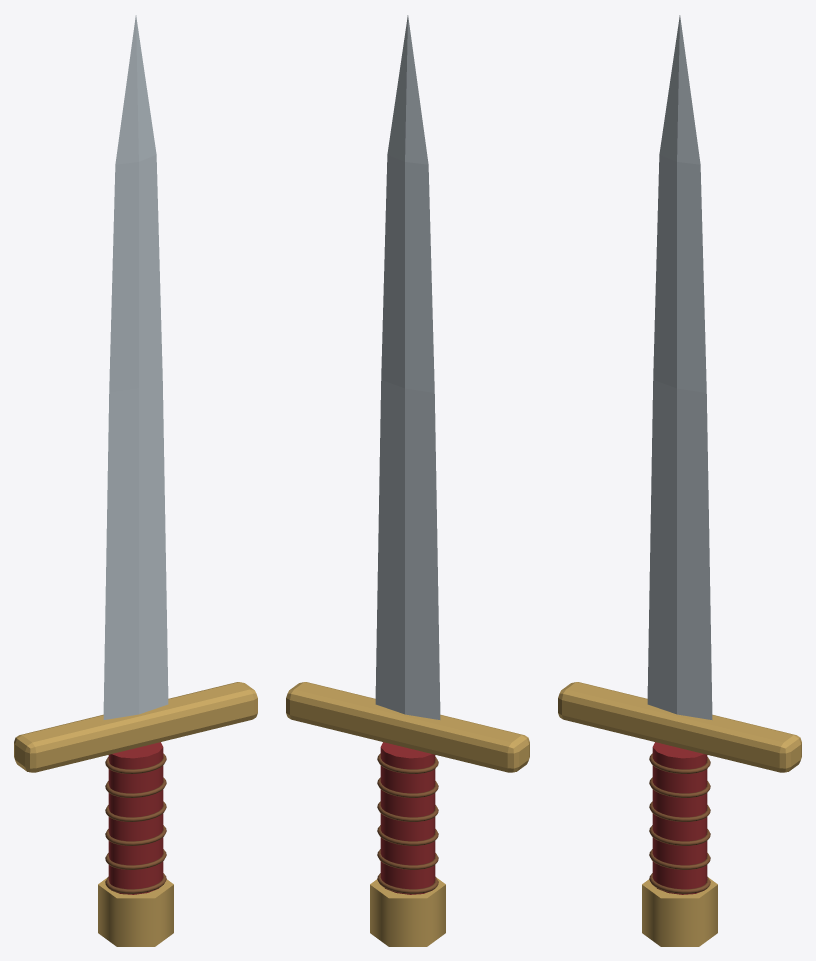
Rendered from sword_arming.glb.
The picture shows the model from 3 angles, left to right: view 1: azimuth 30°, elevation 25°; view 2: azimuth 150°, elevation 25°; view 3: azimuth 330°, elevation 25°; orthographic projection.
Parts seen in each view (by area): view 1: Arming sword blade, Compact crossguard, Short leather grip, Hexagonal pommel; view 2: Arming sword blade, Compact crossguard, Short leather grip, Hexagonal pommel; view 3: Arming sword blade, Compact crossguard, Short leather grip, Hexagonal pommel.
Part boxes in pixels (x1=…): Arming sword blade: x1=103, y1=15, x2=168, y2=719; Compact crossguard: x1=14, y1=682, x2=257, y2=772; Short leather grip: x1=108, y1=742, x2=163, y2=894; Hexagonal pommel: x1=98, y1=877, x2=173, y2=946; Arming sword blade: x1=375, y1=15, x2=440, y2=719; Compact crossguard: x1=286, y1=682, x2=529, y2=772; Short leather grip: x1=380, y1=742, x2=435, y2=894; Hexagonal pommel: x1=370, y1=877, x2=445, y2=946; Arming sword blade: x1=647, y1=15, x2=712, y2=719; Compact crossguard: x1=558, y1=682, x2=801, y2=772; Short leather grip: x1=652, y1=742, x2=707, y2=894; Hexagonal pommel: x1=642, y1=877, x2=717, y2=946.
Size of the model in its own units: 0.225 by 0.8515 by 0.064.
